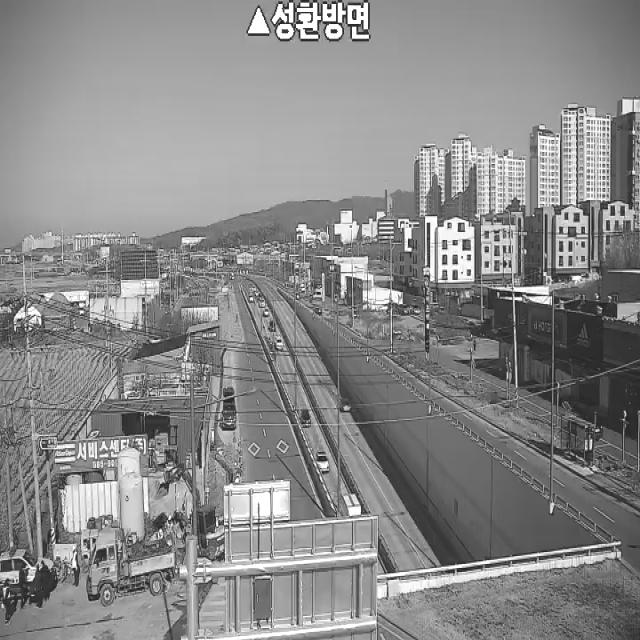Car: (0, 546, 57, 601), (572, 414, 602, 442), (316, 451, 330, 474), (300, 409, 311, 428), (340, 397, 352, 412), (268, 319, 276, 332), (264, 307, 269, 317)
Truck: (86, 526, 175, 607), (222, 385, 235, 429), (340, 492, 361, 514), (275, 336, 283, 351)
